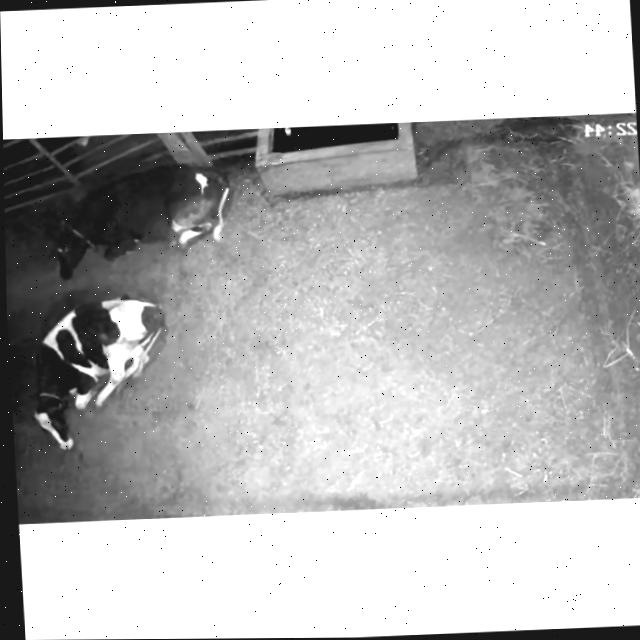lay: (12, 282, 177, 460), (24, 153, 242, 282)
